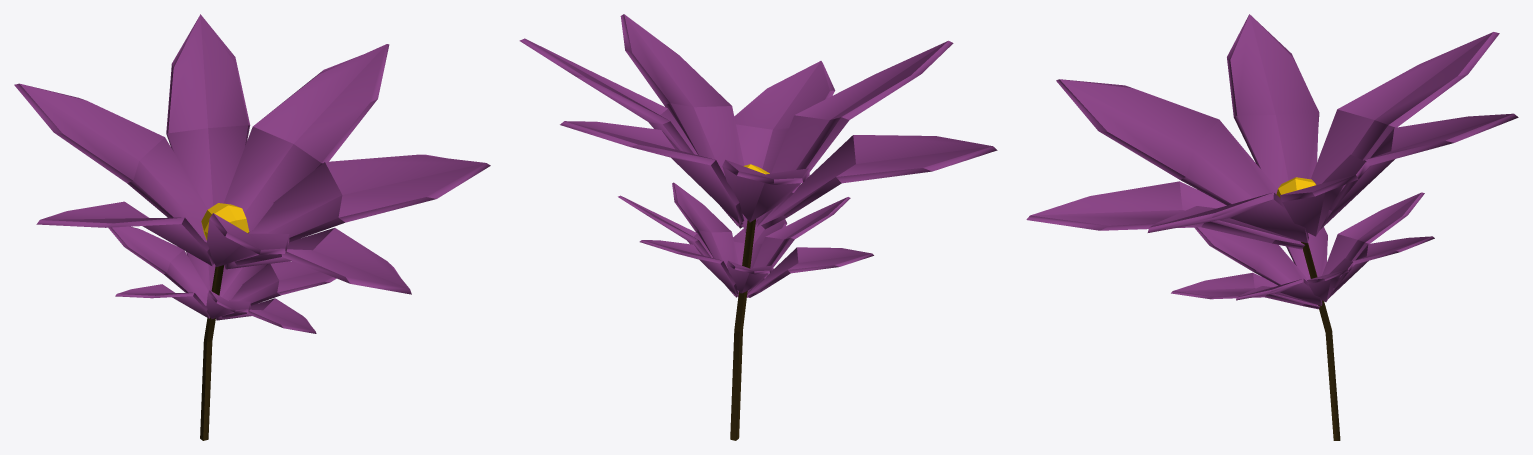
The model's file is Flower_1.001.fbx.
3 renders of one model, left to right at view 1: azimuth 30°, elevation 25°; view 2: azimuth 150°, elevation 25°; view 3: azimuth 270°, elevation 25°, orthographic. The views are drawn at different scales.
Visible parts, largest first — view 1: Flower_1.001; view 2: Flower_1.001; view 3: Flower_1.001.
Part boxes in pixels (x1,y1,x2,y2): Flower_1.001: (14,14,490,440); Flower_1.001: (519,14,997,440); Flower_1.001: (1026,14,1518,440).
Bounding box in the file's own units: 41 × 33.19 × 40.38.
